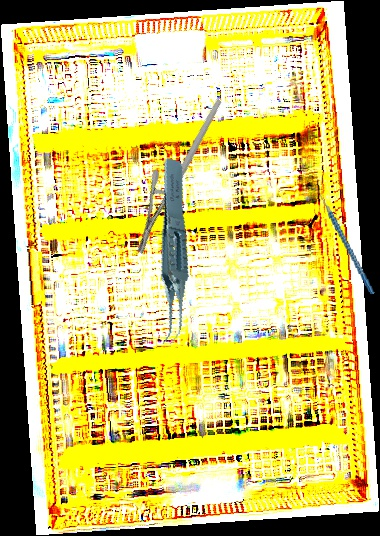Chopper: (307, 178, 375, 302)
Needle Holder: (99, 98, 261, 255)
Tissue Forceps: (120, 157, 221, 348)
